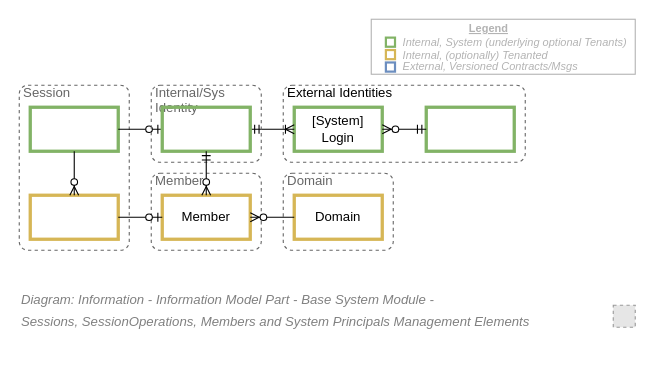
Image size: 655x373. Some labels were removed from this diagram. Grey dashed boxes stand in for pictures. The centre of each missing label's shape, as x and y in pixels:
[System] IdP: [469,128]
[System] Principal: [205,128]
[System] Session: [73,128]
Session Operation: [73,216]
